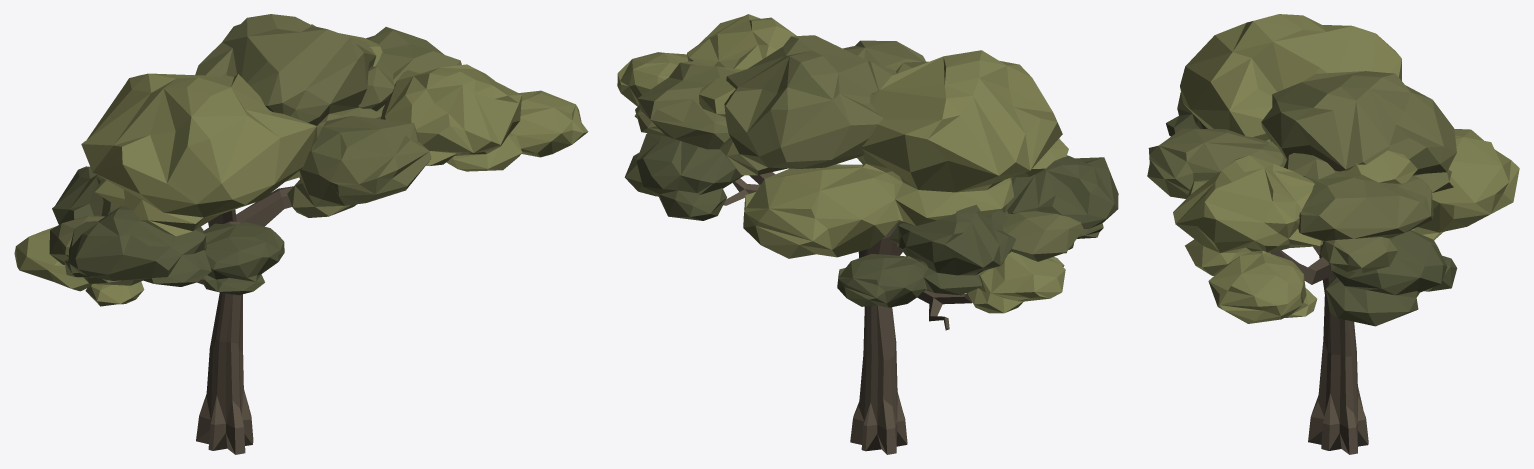
The model's file is env_tree_large2.gltf.
3 views of the same model, side by side, from view 1: azimuth 30°, elevation 25°; view 2: azimuth 150°, elevation 25°; view 3: azimuth 270°, elevation 25° (orthographic). The views are drawn at different scales.
Parts seen in each view (by area): view 1: env_tree_large2; view 2: env_tree_large2; view 3: env_tree_large2.
Part boxes in pixels (bbox=[...]): env_tree_large2: bbox=[14, 14, 588, 454]; env_tree_large2: bbox=[617, 14, 1118, 454]; env_tree_large2: bbox=[1147, 14, 1519, 454].
Bounding box in the file's own units: 18.09 × 13.73 × 11.52.
Materials: 1 (1 with a texture image).
